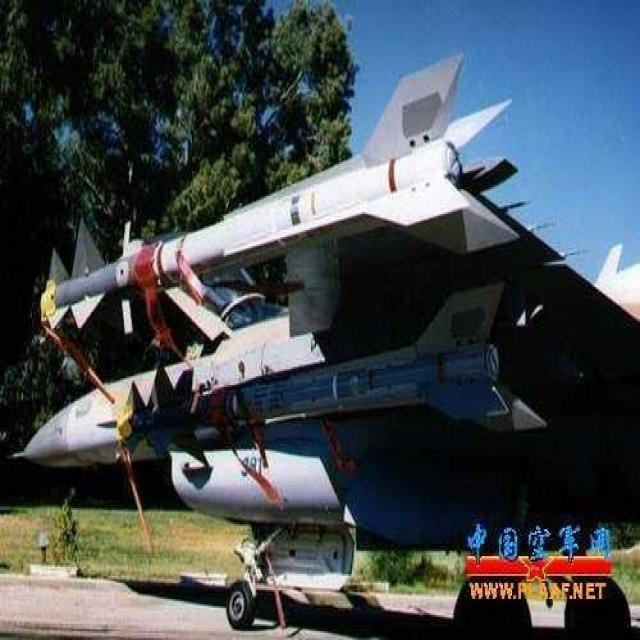missile: (46, 51, 513, 329), (176, 284, 540, 443)
